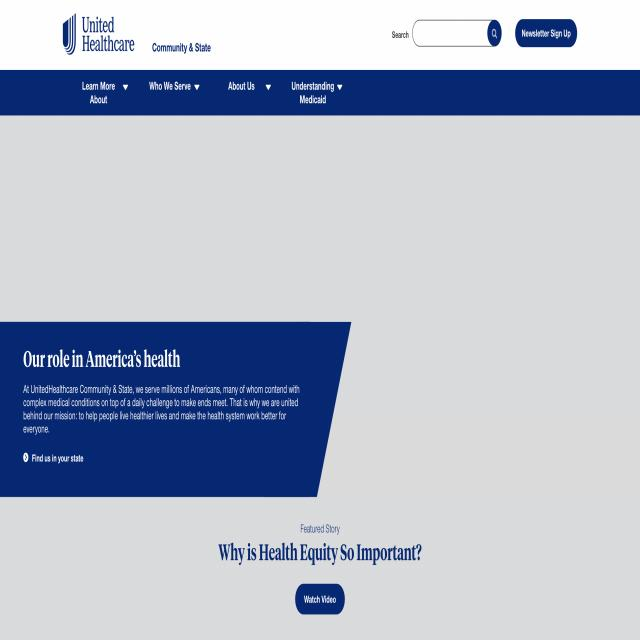Logo: (60, 1, 138, 63)
Navigation: (70, 68, 348, 110)
